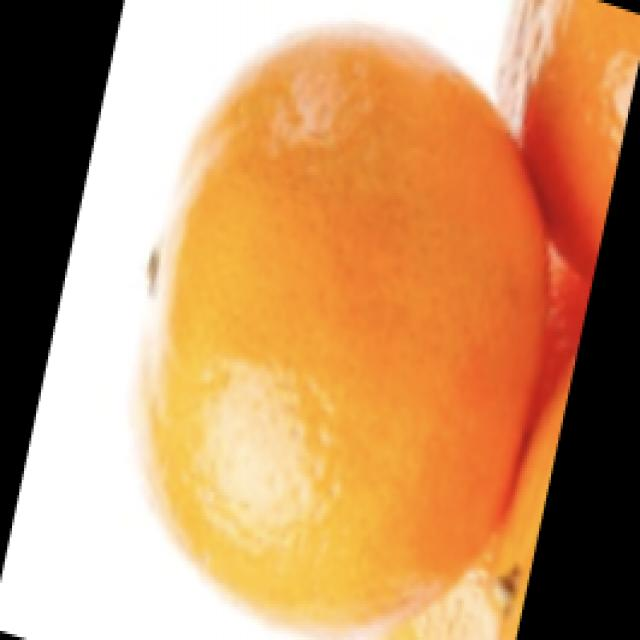fresh: (120, 11, 585, 633)
